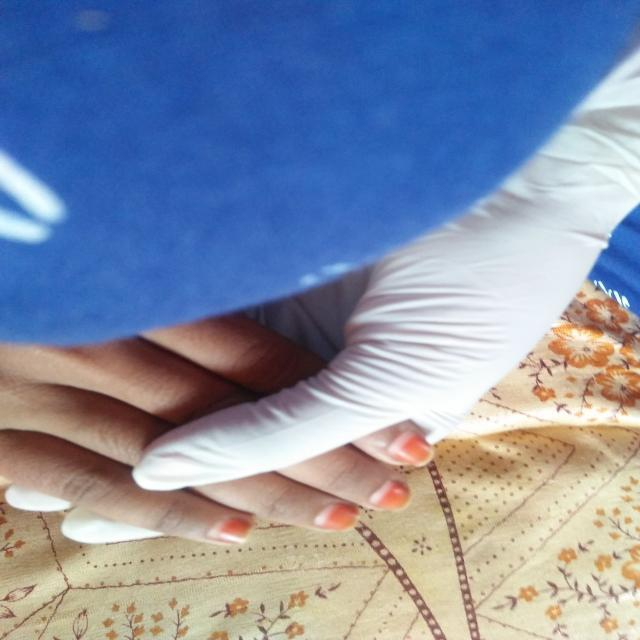gloved_hand: (5, 29, 640, 546)
